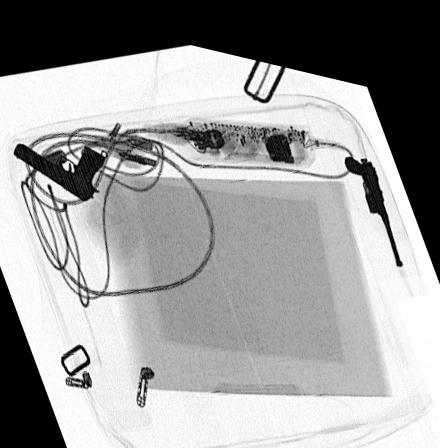Gun: (343, 138, 403, 247), (11, 139, 106, 197)
